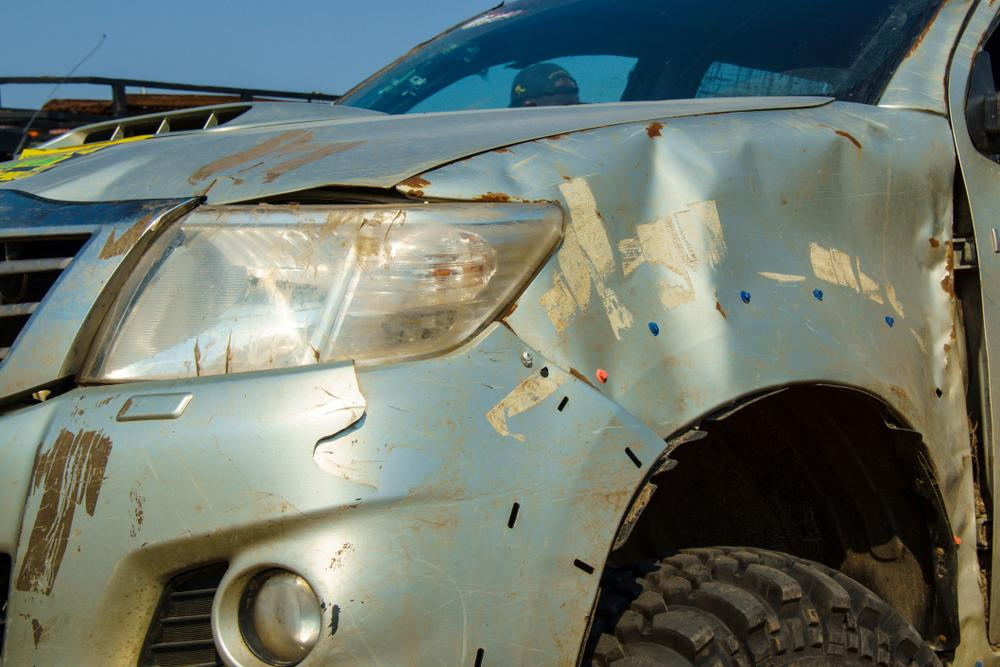crack: (310, 361, 378, 491)
dent: (472, 123, 977, 587)
